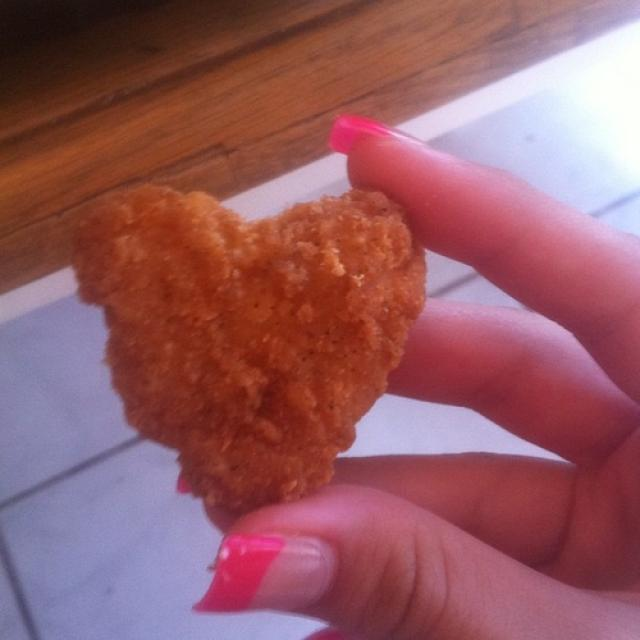鸡肉料理 含炸鸡: (32, 121, 460, 556)
